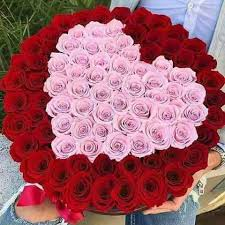lale: (160, 159, 195, 198), (83, 173, 116, 214), (107, 177, 141, 213), (62, 174, 94, 210), (140, 171, 168, 212), (181, 141, 208, 173), (114, 154, 147, 180), (44, 160, 70, 193), (24, 150, 54, 177), (191, 124, 219, 150), (116, 155, 147, 178), (33, 25, 66, 46), (10, 138, 37, 163), (168, 121, 196, 145), (143, 122, 168, 148), (54, 136, 79, 162), (45, 74, 71, 99), (3, 93, 31, 116), (0, 69, 28, 92), (200, 66, 225, 91), (26, 70, 52, 94), (115, 44, 140, 68), (91, 3, 116, 26), (151, 99, 174, 124), (22, 104, 48, 126), (70, 77, 92, 103), (104, 71, 127, 95), (104, 131, 130, 152), (31, 124, 58, 144), (130, 134, 151, 159), (121, 78, 148, 97), (23, 34, 45, 57), (70, 117, 92, 140), (47, 98, 75, 116), (117, 112, 142, 132), (54, 15, 80, 34), (102, 19, 129, 37), (136, 41, 158, 63), (49, 52, 70, 75), (54, 113, 74, 137), (182, 87, 207, 106), (7, 115, 28, 137), (174, 48, 196, 69), (203, 85, 225, 106), (144, 11, 167, 31), (96, 105, 119, 125), (28, 54, 55, 71), (128, 101, 155, 118), (152, 58, 177, 76), (127, 61, 152, 79), (156, 146, 182, 163), (13, 54, 35, 74), (91, 121, 113, 141), (179, 105, 203, 123), (78, 140, 105, 156), (204, 105, 225, 125), (90, 82, 110, 103), (90, 156, 116, 172), (74, 4, 93, 25), (147, 87, 170, 104), (108, 34, 132, 50), (88, 53, 112, 69), (108, 95, 131, 111), (142, 154, 161, 173), (97, 37, 117, 55), (58, 33, 78, 51), (81, 40, 102, 57), (70, 157, 92, 173), (164, 84, 185, 100), (81, 67, 106, 80), (70, 23, 87, 42), (168, 68, 191, 82), (143, 72, 162, 88), (69, 49, 88, 65), (73, 100, 93, 115), (125, 21, 141, 39), (112, 61, 131, 76), (87, 23, 104, 38)
